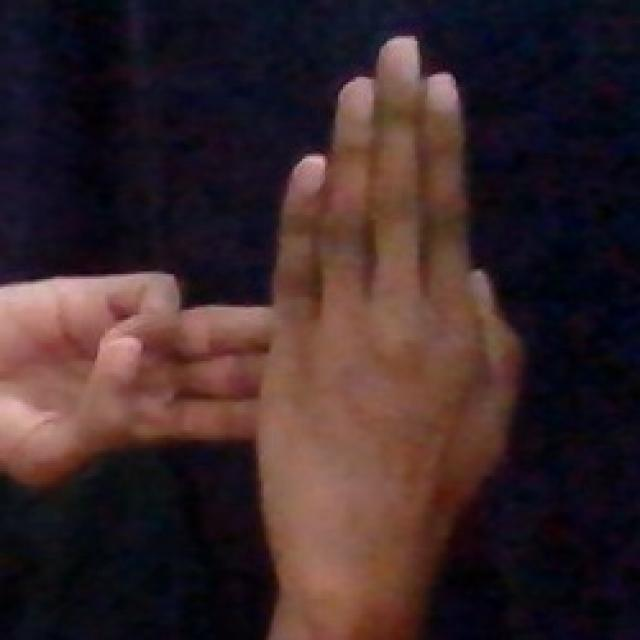Alphabet-M: (0, 30, 558, 640)
